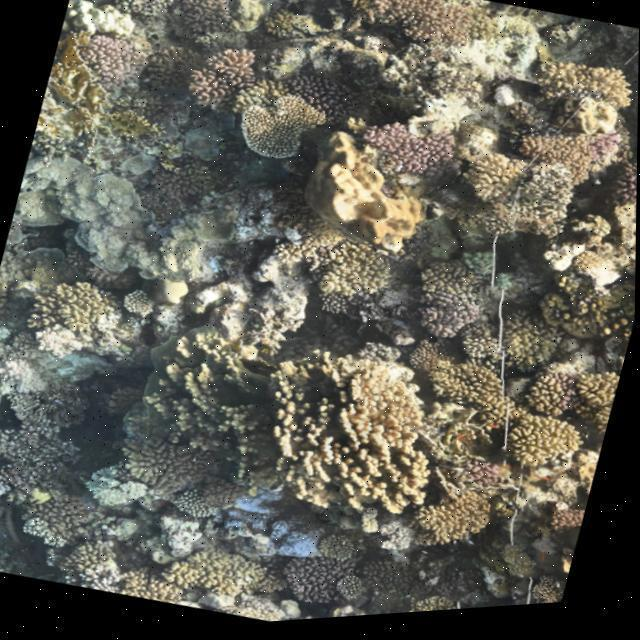Bleached Coral: (6, 145, 238, 298), (70, 448, 158, 528), (0, 328, 46, 423), (257, 516, 330, 573), (18, 314, 92, 368), (371, 510, 433, 574), (0, 438, 21, 519)
Healthy Coral: (271, 334, 414, 506), (154, 24, 260, 104), (372, 105, 456, 175)
